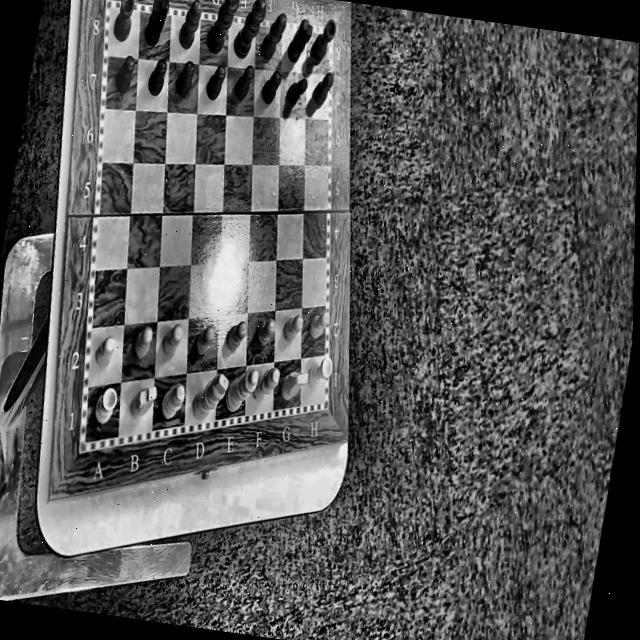chessboard: (85, 8, 331, 440)
